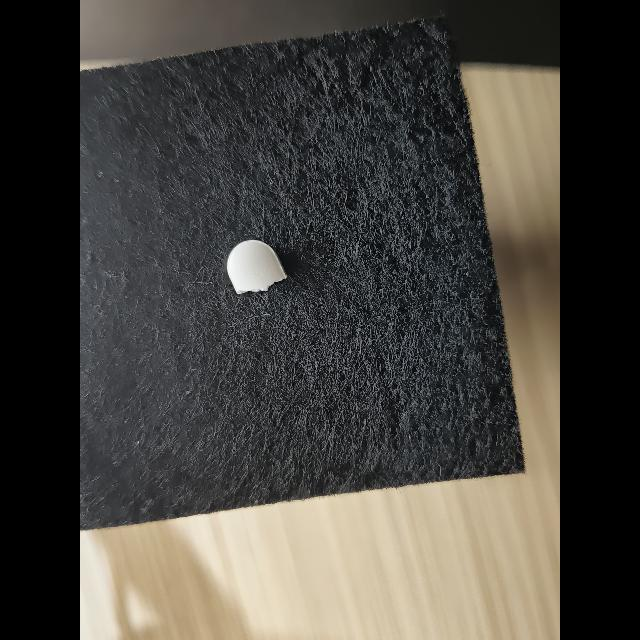Chipped Pill: (227, 240, 288, 294)
